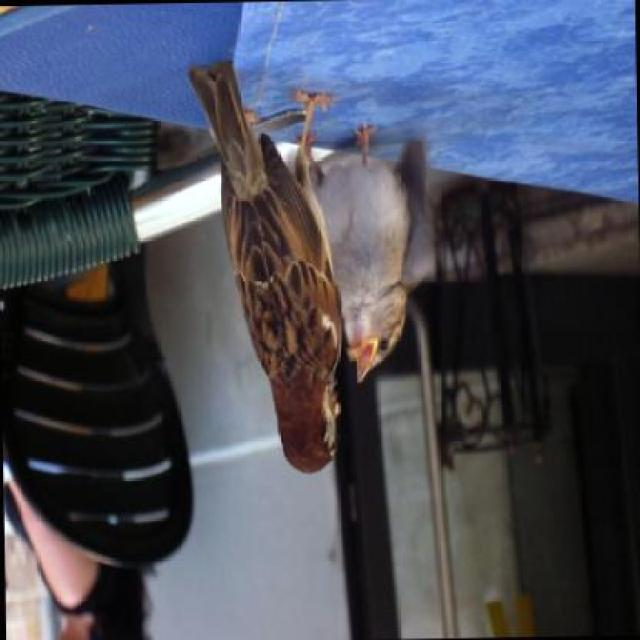sparrow: (185, 56, 346, 476), (327, 120, 422, 385)
